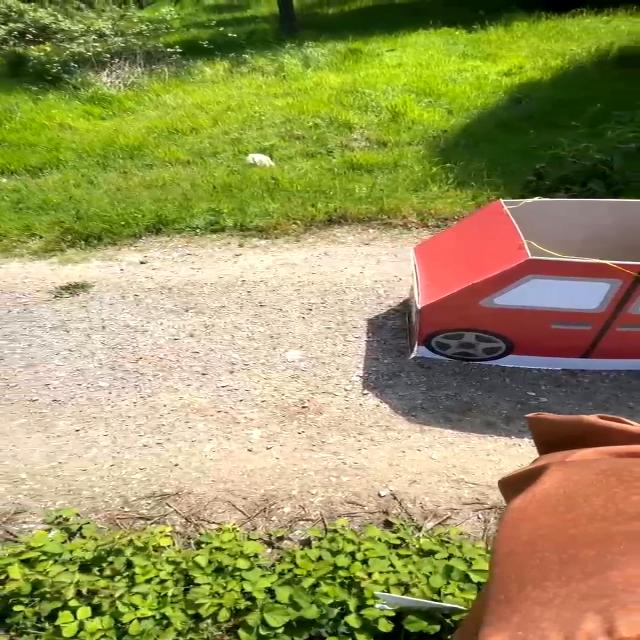red_car: (364, 183, 640, 391)
